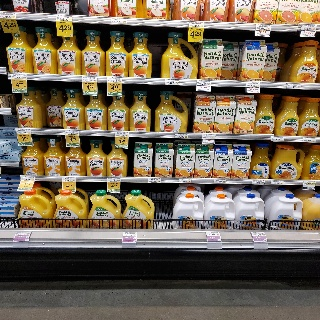All PRICE TAGS: (14, 230, 32, 237), (56, 15, 72, 21), (111, 18, 127, 24), (188, 21, 204, 27), (251, 231, 266, 237), (206, 231, 221, 237), (123, 231, 138, 237), (0, 12, 15, 18), (256, 24, 271, 30), (301, 24, 316, 30), (82, 76, 97, 82), (165, 79, 180, 85), (10, 74, 26, 79), (107, 77, 123, 82), (114, 131, 129, 136), (16, 129, 31, 134), (287, 83, 302, 88), (196, 80, 211, 85), (65, 130, 79, 135), (246, 82, 260, 87), (252, 179, 265, 184), (179, 178, 192, 183), (148, 178, 161, 183), (107, 177, 120, 182), (303, 137, 316, 142), (175, 133, 188, 138), (213, 179, 227, 183), (62, 177, 76, 181), (303, 181, 316, 185), (21, 176, 34, 180), (271, 136, 284, 140), (202, 134, 215, 138), (271, 180, 283, 184)
